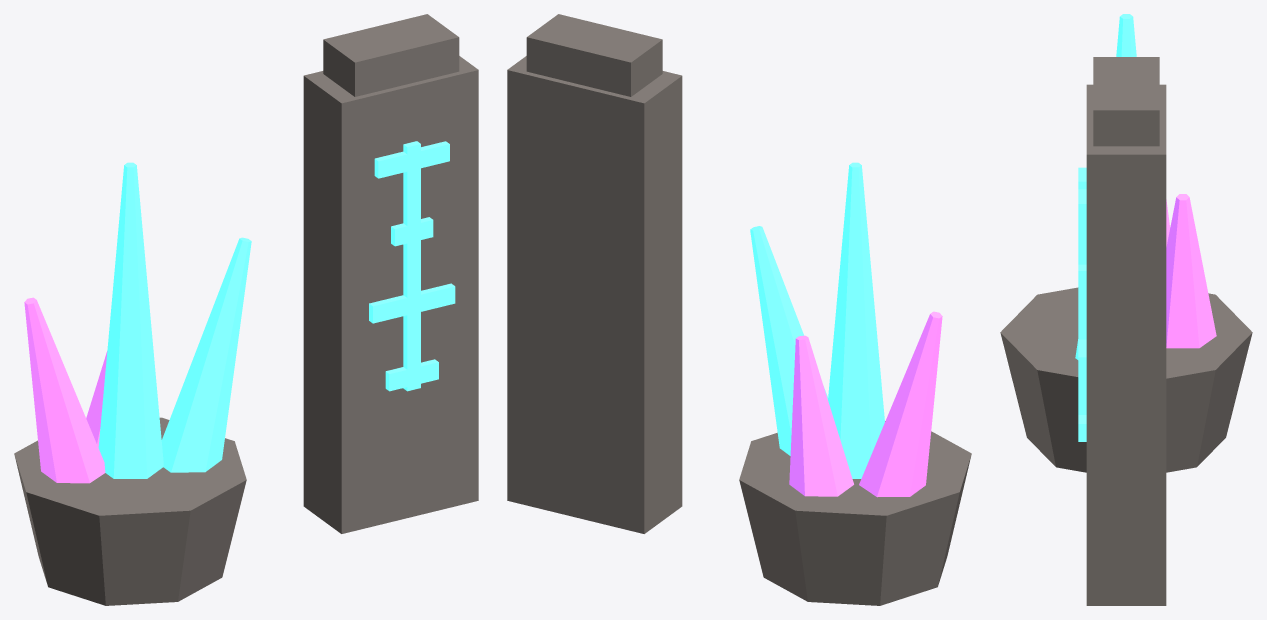
The model's file is shop_magic_yard.gltf.
The picture shows the model from 3 angles, left to right: view 1: azimuth 30°, elevation 25°; view 2: azimuth 150°, elevation 25°; view 3: azimuth 270°, elevation 25°; orthographic projection. The views are drawn at different scales.
Parts seen in each view (by area): view 1: ShopMagicYardShopStone, ShopMagicYardShopCrystal, ShopMagicYardShopViolet; view 2: ShopMagicYardShopStone, ShopMagicYardShopCrystal, ShopMagicYardShopViolet; view 3: ShopMagicYardShopStone, ShopMagicYardShopViolet, ShopMagicYardShopCrystal.
Part boxes in pixels (bbox=[...]): ShopMagicYardShopStone: bbox=[14, 14, 478, 605]; ShopMagicYardShopCrystal: bbox=[98, 141, 455, 478]; ShopMagicYardShopViolet: bbox=[24, 297, 107, 483]; ShopMagicYardShopStone: bbox=[507, 14, 971, 605]; ShopMagicYardShopCrystal: bbox=[750, 162, 884, 478]; ShopMagicYardShopViolet: bbox=[789, 311, 942, 497]; ShopMagicYardShopStone: bbox=[1000, 57, 1252, 605]; ShopMagicYardShopViolet: bbox=[1166, 194, 1216, 348]; ShopMagicYardShopCrystal: bbox=[1075, 14, 1136, 441].
Size of what is drawn, in the model's own units: 1.58 by 1.62 by 0.76.
